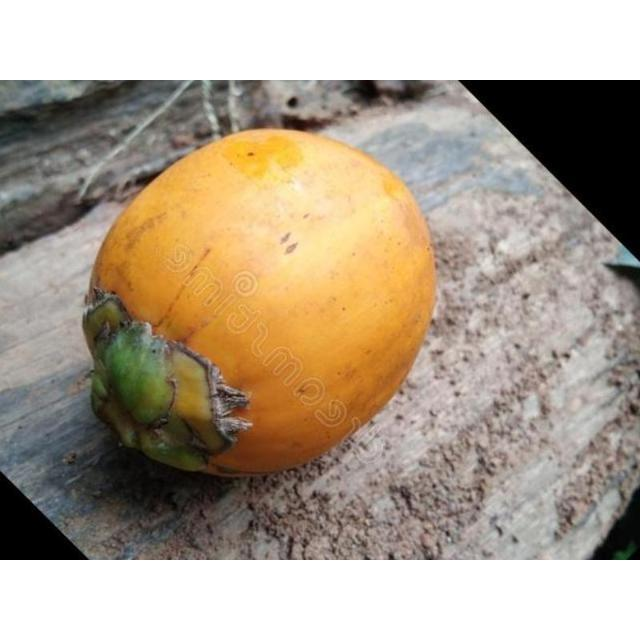good: (81, 129, 438, 479)
